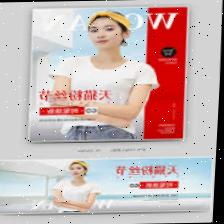paper: (25, 3, 190, 146), (0, 155, 216, 219)
